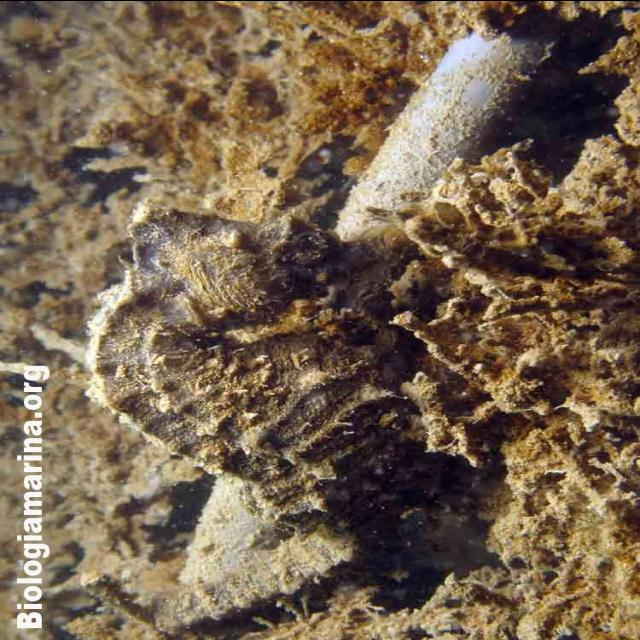Hippo: (113, 200, 409, 335)
